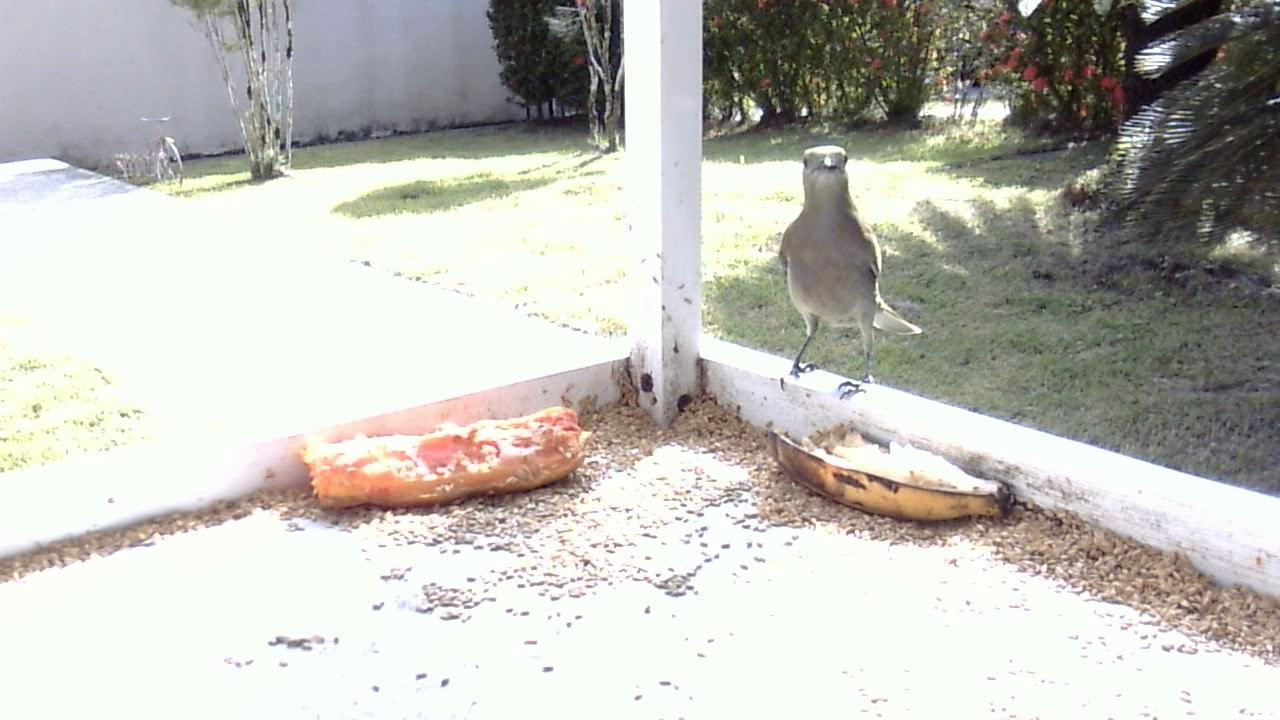sanhaco_do_coqueiro: (770, 138, 928, 404)
